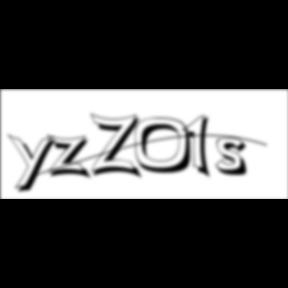1: (182, 114, 216, 182)
O: (135, 117, 200, 176)
Z: (90, 112, 145, 181)
s: (216, 137, 254, 179)
y: (8, 132, 62, 196)
z: (46, 134, 96, 182)
